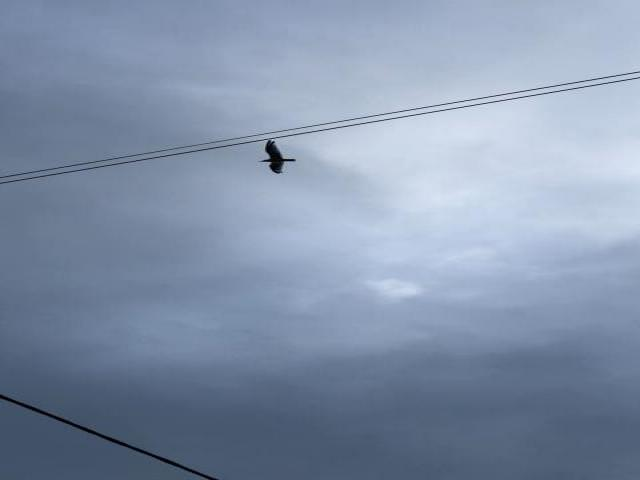bird: (235, 144, 324, 182)
